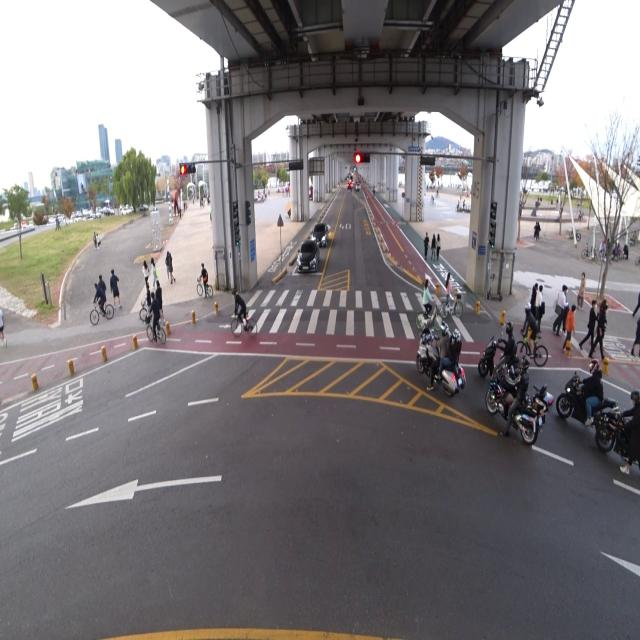Car: (294, 236, 322, 279), (307, 214, 332, 247)
Motorcycle: (484, 352, 554, 446), (556, 356, 618, 438), (591, 385, 640, 478), (476, 319, 530, 399), (414, 318, 467, 399)
